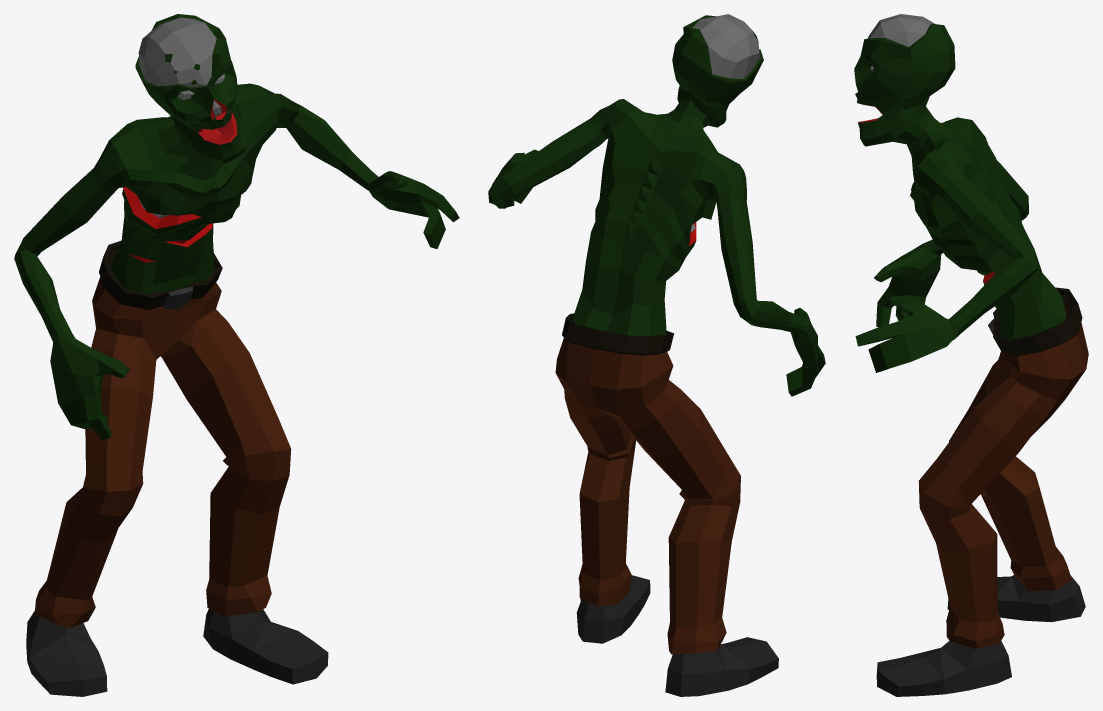
The model's file is Zombie.obj.
The picture shows the model from 3 angles, left to right: view 1: azimuth 30°, elevation 25°; view 2: azimuth 150°, elevation 25°; view 3: azimuth 270°, elevation 25°; orthographic projection. The views are drawn at different scales.
Parts seen in each view (by area): view 1: Zombie_09.001_body.000; view 2: Zombie_09.001_body.000; view 3: Zombie_09.001_body.000.
Boxes of the visible parts, x1,y1,x2,y2 form: Zombie_09.001_body.000: [14, 14, 459, 696]; Zombie_09.001_body.000: [488, 14, 825, 696]; Zombie_09.001_body.000: [854, 14, 1088, 696].
Size of the model in its own units: 5.16 by 8.94 by 3.07.
